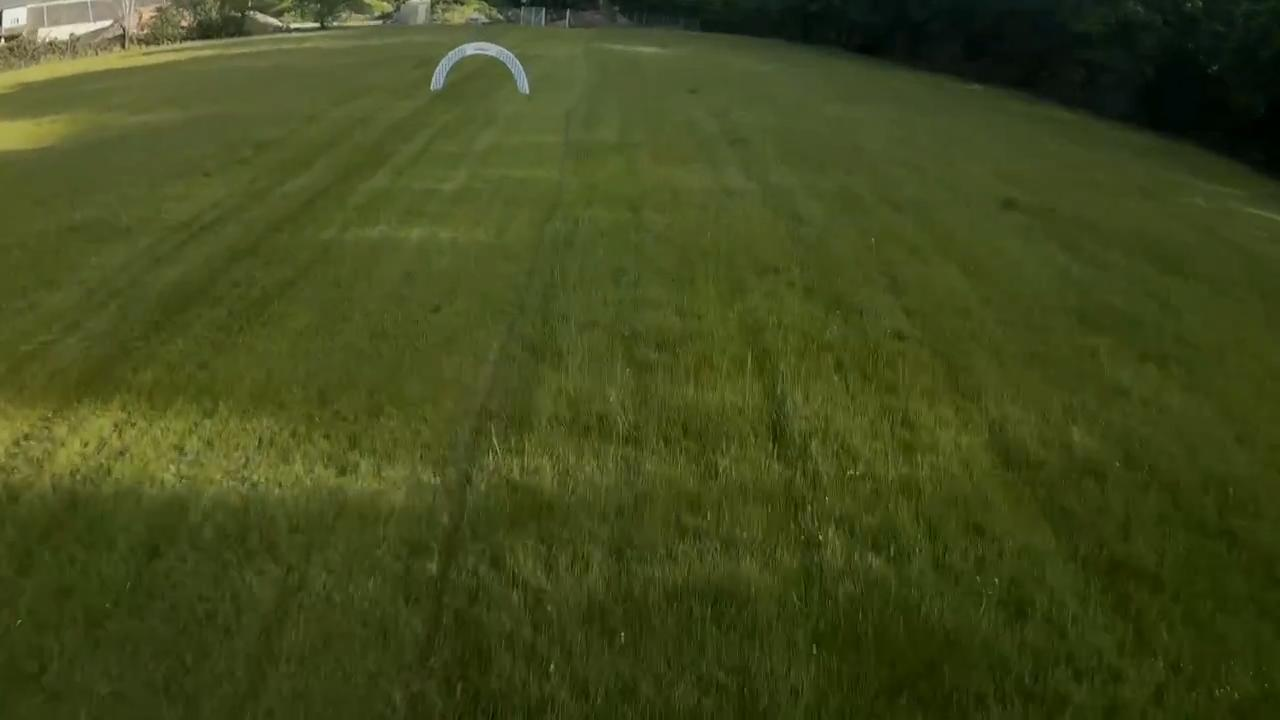gate: (428, 41, 530, 96)
